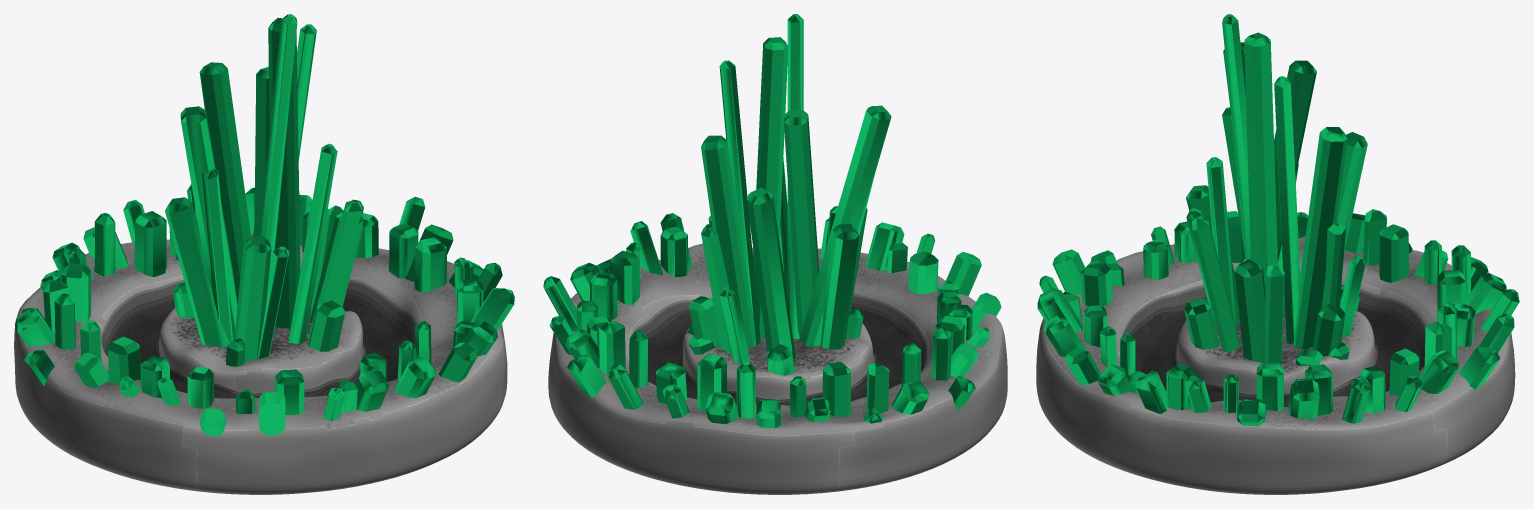
Rendered from CRYSTALS1.fbx.
The picture shows the model from 3 angles, left to right: view 1: azimuth 30°, elevation 25°; view 2: azimuth 150°, elevation 25°; view 3: azimuth 270°, elevation 25°; orthographic projection. The views are drawn at different scales.
Visible parts, largest first — view 1: GROUND, CRYSTALS, CRYSTALS_2, WATER; view 2: GROUND, CRYSTALS, CRYSTALS_2, WATER; view 3: GROUND, CRYSTALS, CRYSTALS_2, WATER.
Part boxes in pixels (x1,y1,x2,y2): GROUND: (14,233,507,494); CRYSTALS: (165,14,363,366); CRYSTALS_2: (15,184,514,436); WATER: (101,280,416,398); GROUND: (548,243,1007,494); CRYSTALS: (687,14,891,375); CRYSTALS_2: (543,213,1001,428); WATER: (635,294,926,406); GROUND: (1036,236,1515,494); CRYSTALS: (1184,14,1367,365); CRYSTALS_2: (1037,209,1519,426); WATER: (1122,285,1425,406).
Bounding box in the file's own units: 606 × 528 × 599.
Materials: 3 (1 with a texture image).
